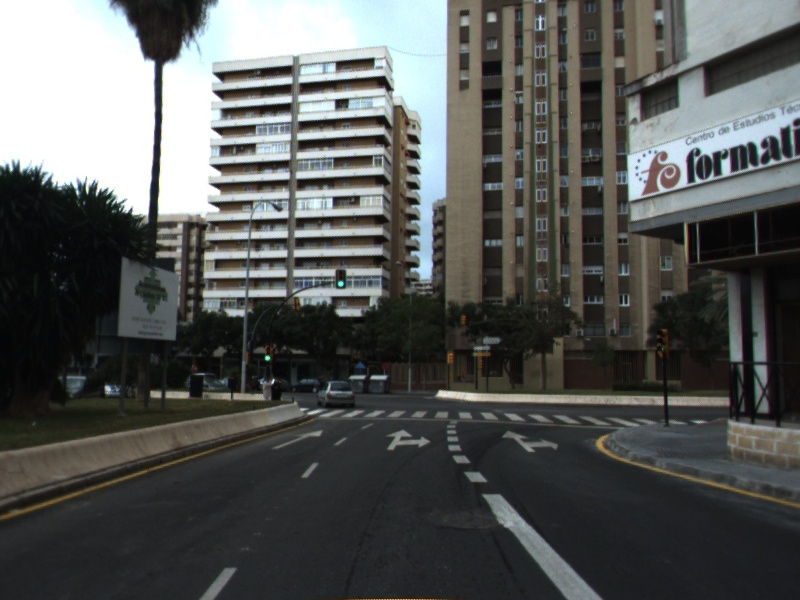STRAIGHT: (269, 427, 326, 451)
STRAIGHT_RIGHT: (500, 429, 560, 454), (383, 427, 433, 452)
